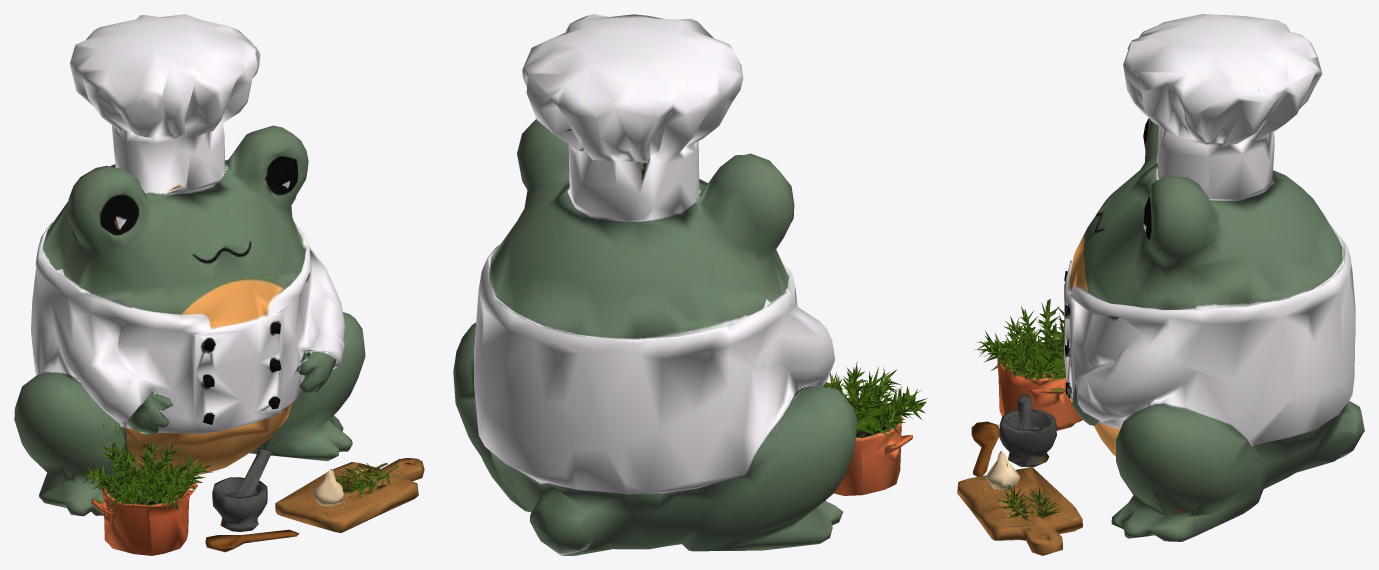
File: chef.glb
3 views of the same model, side by side, from view 1: azimuth 30°, elevation 25°; view 2: azimuth 150°, elevation 25°; view 3: azimuth 270°, elevation 25° (orthographic). The views are drawn at different scales.
Parts seen in each view (by area): view 1: mesh_node; view 2: mesh_node; view 3: mesh_node.
Part boxes in pixels (x1,y1,x2,y2): mesh_node: [14, 14, 424, 555]; mesh_node: [453, 14, 927, 555]; mesh_node: [957, 14, 1364, 555].
Bounding box in the file's own units: 1.61 × 1.9 × 1.61.
Materials: 1 (1 with a texture image).
